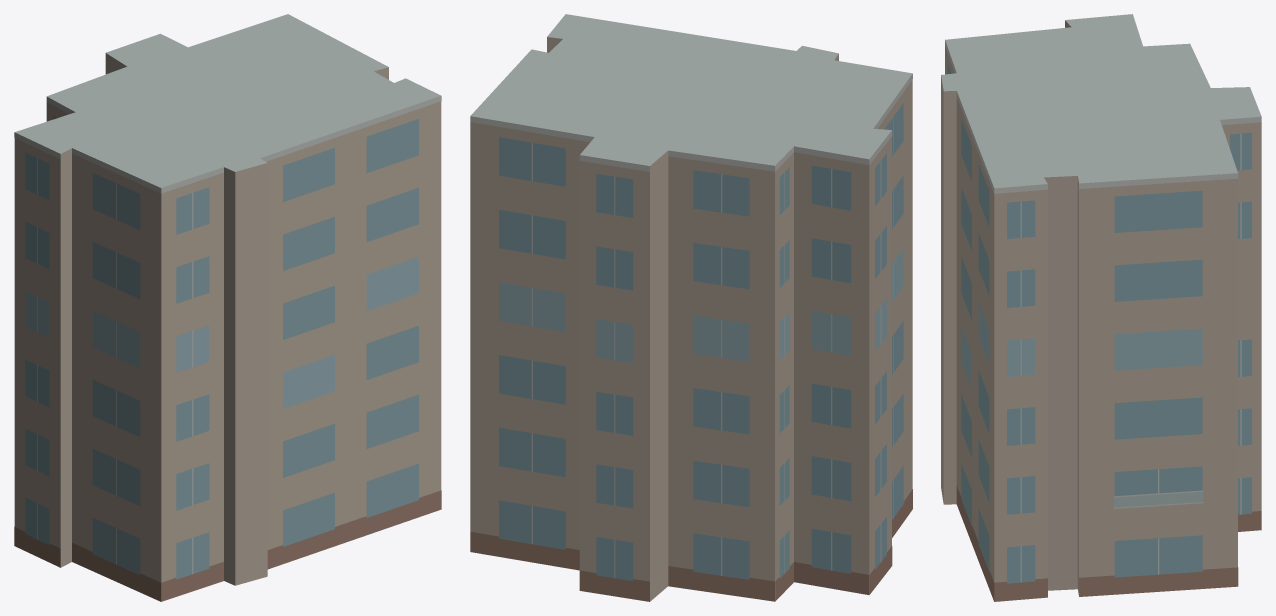
File: survey-upis-32570480.glb
3 views of the same model, side by side, from view 1: azimuth 30°, elevation 25°; view 2: azimuth 150°, elevation 25°; view 3: azimuth 270°, elevation 25° (orthographic). The views are drawn at different scales.
Visible parts, largest first — view 1: survey-upis-32570480.tmp; view 2: survey-upis-32570480.tmp; view 3: survey-upis-32570480.tmp.
Part boxes in pixels (bbox=[...]): survey-upis-32570480.tmp: bbox=[14, 14, 441, 601]; survey-upis-32570480.tmp: bbox=[470, 14, 912, 601]; survey-upis-32570480.tmp: bbox=[941, 14, 1261, 601].
Size of the model in its own units: 16.56 by 18.3 by 12.86.
